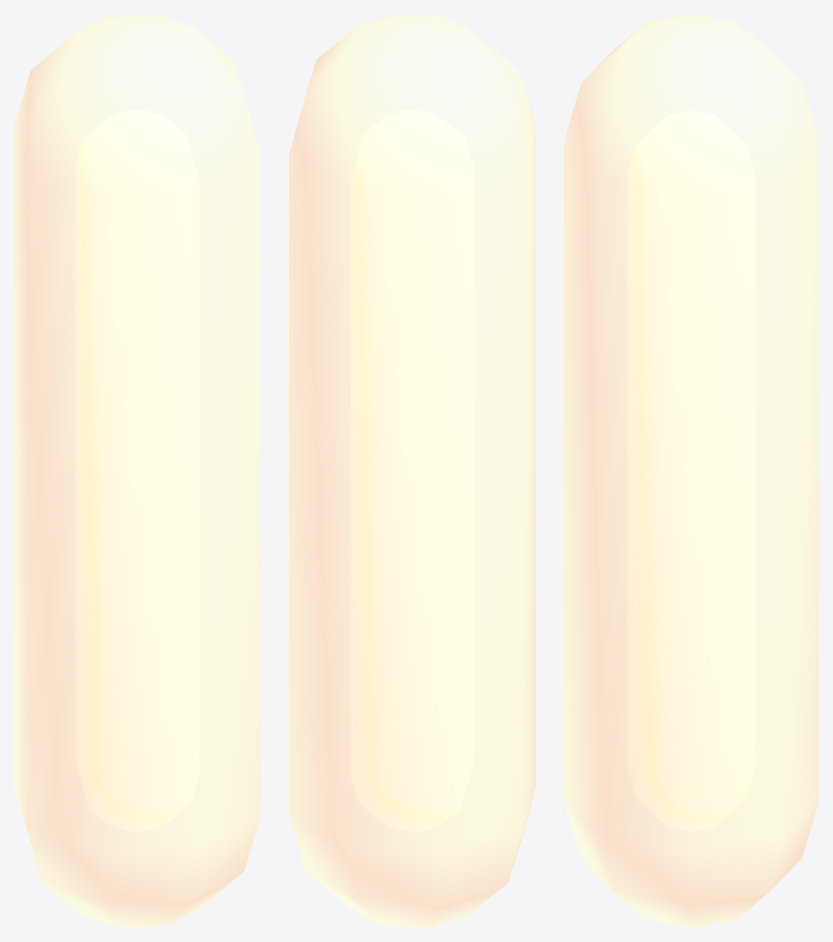
File: laser_bolt.glb
3 renders of one model, left to right at view 1: azimuth 30°, elevation 25°; view 2: azimuth 150°, elevation 25°; view 3: azimuth 270°, elevation 25°, orthographic.
Visible parts, largest first — view 1: laser_bolt; view 2: laser_bolt; view 3: laser_bolt.
Boxes of the visible parts, x1,y1,x2,y2 form: laser_bolt: [14, 14, 260, 927]; laser_bolt: [289, 14, 535, 927]; laser_bolt: [564, 14, 818, 927].
Bounding box in the file's own units: 0.14 × 0.54 × 0.14.
